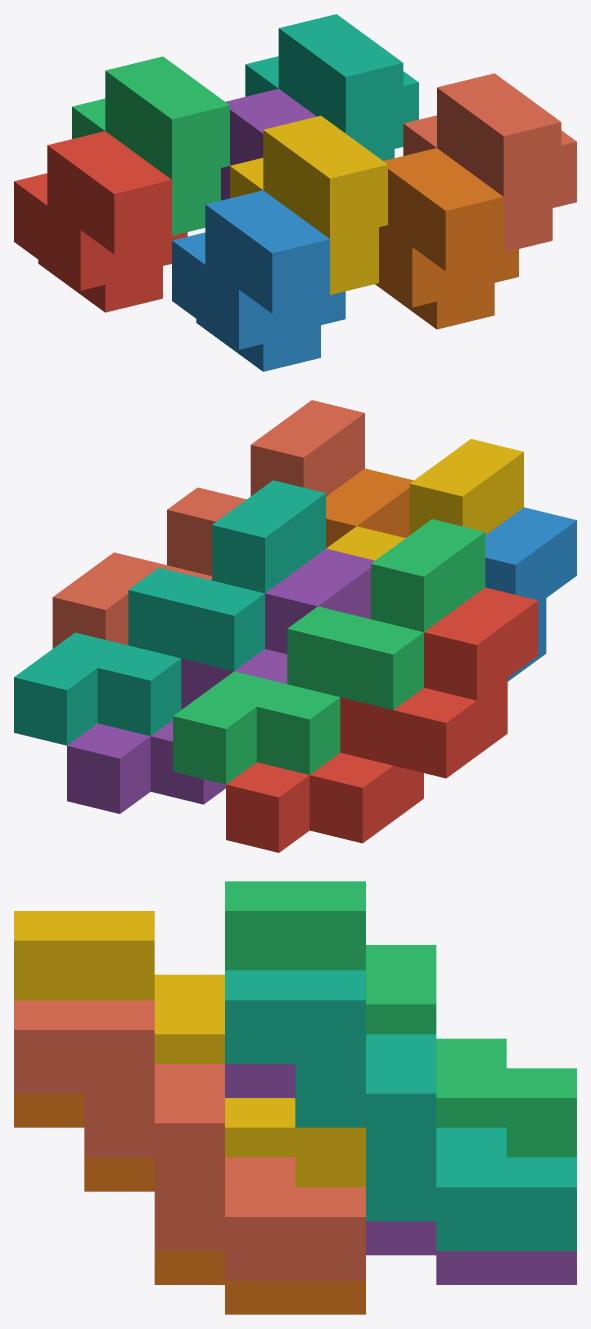
Rendered from tiling.obj.
The picture shows the model from 3 angles, top to bottom: view 1: azimuth 30°, elevation 25°; view 2: azimuth 150°, elevation 25°; view 3: azimuth 270°, elevation 25°; orthographic projection. The views are drawn at different scales.
Parts seen in each view (by area): view 1: copy_1_domain_2, copy_1_domain_1, copy_1_domain_6, copy_1_domain_8, copy_1_domain_4, copy_1_domain_3, copy_1_domain_7, copy_1_domain_5; view 2: copy_1_domain_3, copy_1_domain_7, copy_1_domain_1, copy_1_domain_8, copy_1_domain_5, copy_1_domain_4, copy_1_domain_2, copy_1_domain_6; view 3: copy_1_domain_7, copy_1_domain_8, copy_1_domain_3, copy_1_domain_4, copy_1_domain_6, copy_1_domain_5.
Boxes of the visible parts, x1,y1,x2,y2 form: copy_1_domain_2: [172, 190, 345, 371]; copy_1_domain_1: [14, 131, 187, 312]; copy_1_domain_6: [375, 148, 518, 329]; copy_1_domain_8: [403, 73, 576, 252]; copy_1_domain_4: [230, 115, 387, 294]; copy_1_domain_3: [72, 56, 229, 235]; copy_1_domain_7: [245, 14, 418, 160]; copy_1_domain_5: [221, 88, 316, 200]; copy_1_domain_3: [173, 519, 485, 784]; copy_1_domain_7: [14, 480, 325, 745]; copy_1_domain_1: [226, 587, 538, 852]; copy_1_domain_8: [52, 400, 364, 648]; copy_1_domain_5: [67, 548, 374, 813]; copy_1_domain_4: [326, 439, 523, 560]; copy_1_domain_2: [485, 507, 576, 681]; copy_1_domain_6: [326, 468, 413, 548]; copy_1_domain_7: [225, 970, 576, 1250]; copy_1_domain_8: [14, 1000, 365, 1280]; copy_1_domain_3: [225, 881, 576, 1157]; copy_1_domain_4: [14, 911, 365, 1187]; copy_1_domain_6: [14, 1093, 365, 1314]; copy_1_domain_5: [225, 1064, 576, 1284].
Size of the model in its own units: 8 by 4 by 8.
